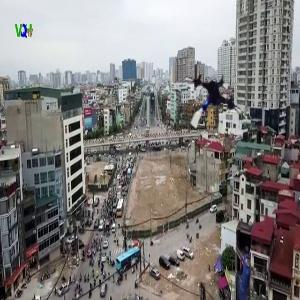drone: (175, 68, 248, 141)
